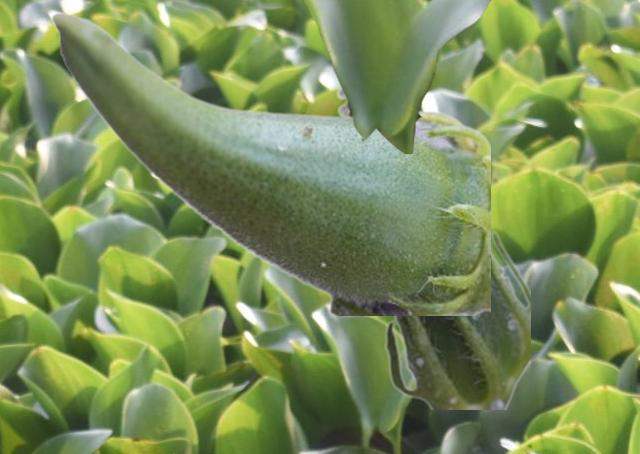okra: (50, 11, 489, 314), (335, 87, 529, 408)
